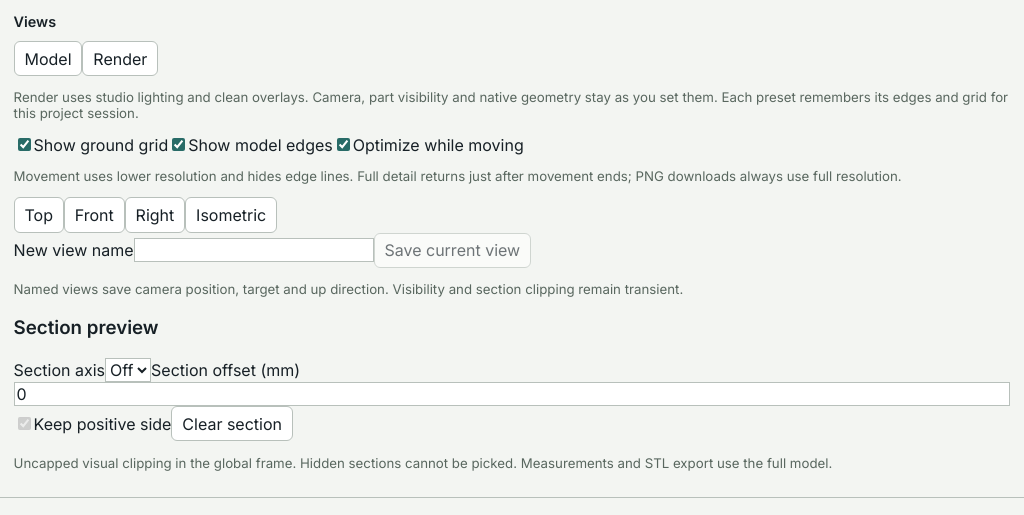
Test: component navigation › routes edge and movement preferences through shared commands without adding history or project data
Check: the checkbox labelled "Optimize while moving" is checked, box top-left (337, 138), bottom-right (350, 151)
Click the checkbox labelled "Show model edges" at x=179, y=144, box top-left (172, 138), bottom-right (185, 151)
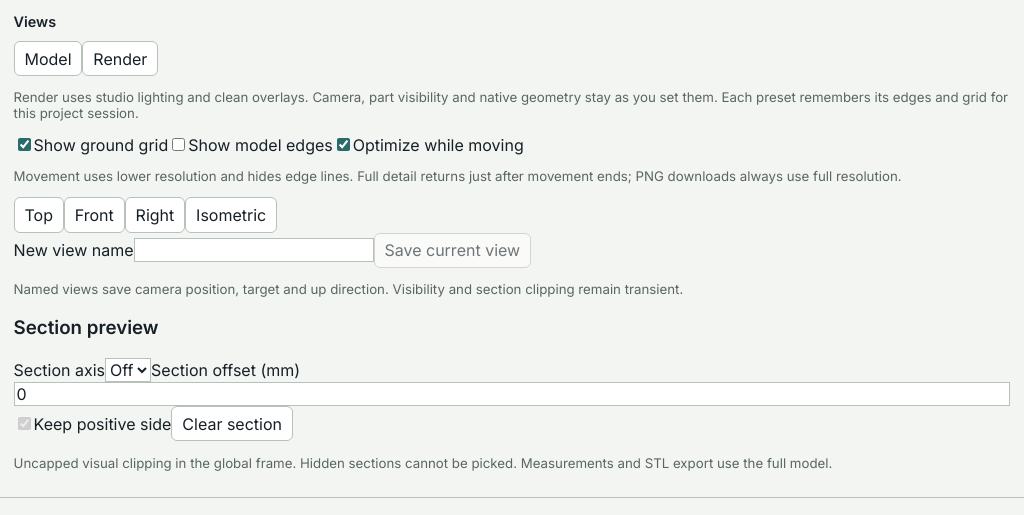
Click the checkbox labelled "Optimize while moving" at x=343, y=144, box top-left (337, 138), bottom-right (350, 151)
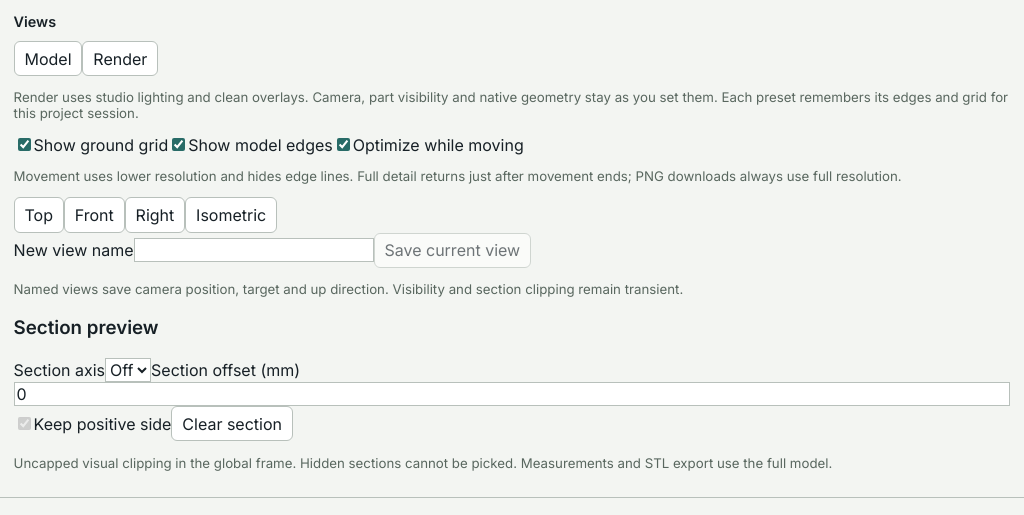
Check: the checkbox labelled "Show model edges" is checked, box top-left (172, 138), bottom-right (185, 151)
